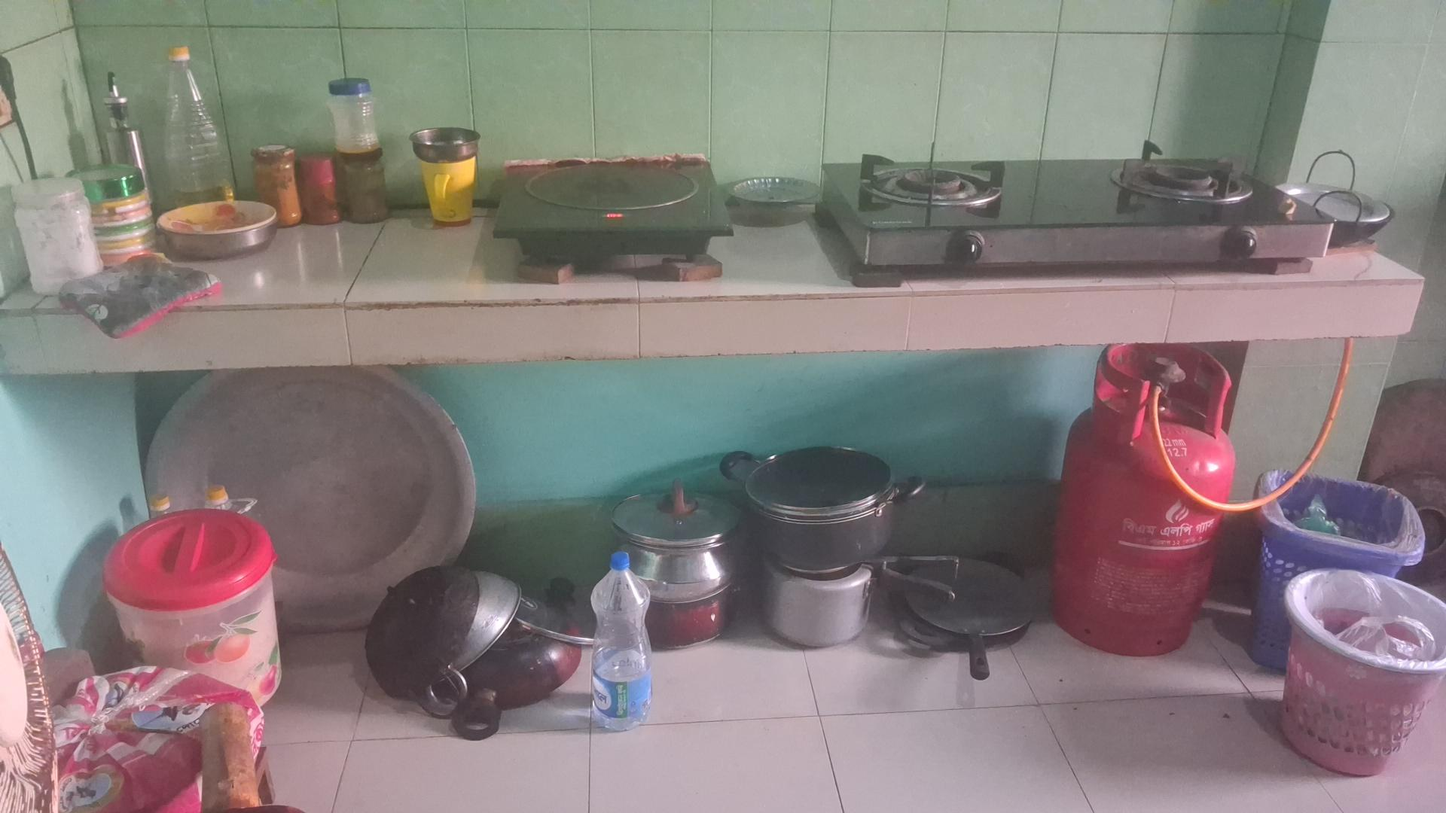Basket: (1249, 464, 1414, 672), (1288, 566, 1442, 785)
Bottle: (158, 41, 236, 199), (590, 551, 655, 733)
Bowl: (156, 204, 278, 256), (729, 169, 824, 228), (408, 117, 482, 165)
Cooker: (770, 562, 954, 648)
Jar: (106, 509, 278, 707), (9, 180, 104, 293), (69, 167, 154, 264), (321, 74, 384, 158), (249, 143, 301, 230), (332, 143, 390, 217), (297, 156, 341, 223)
Mug: (423, 156, 477, 225)
Pan: (909, 551, 1039, 670)
Pot: (716, 451, 928, 568), (616, 486, 737, 596)
